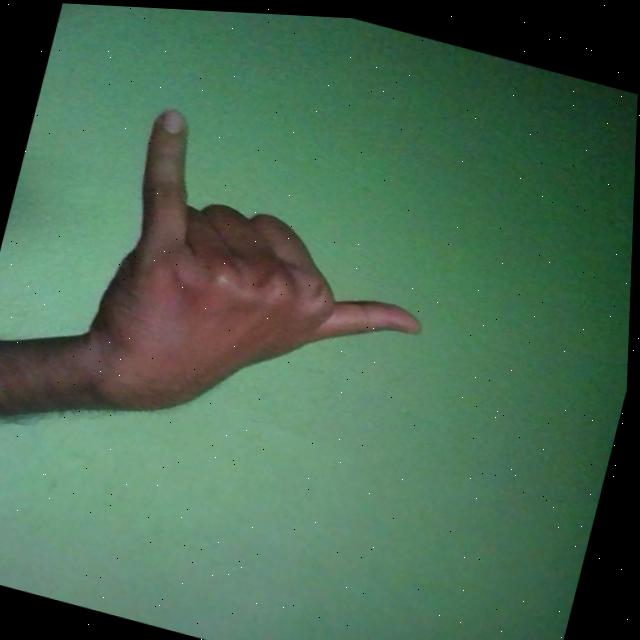Call Me: (69, 98, 458, 482)
